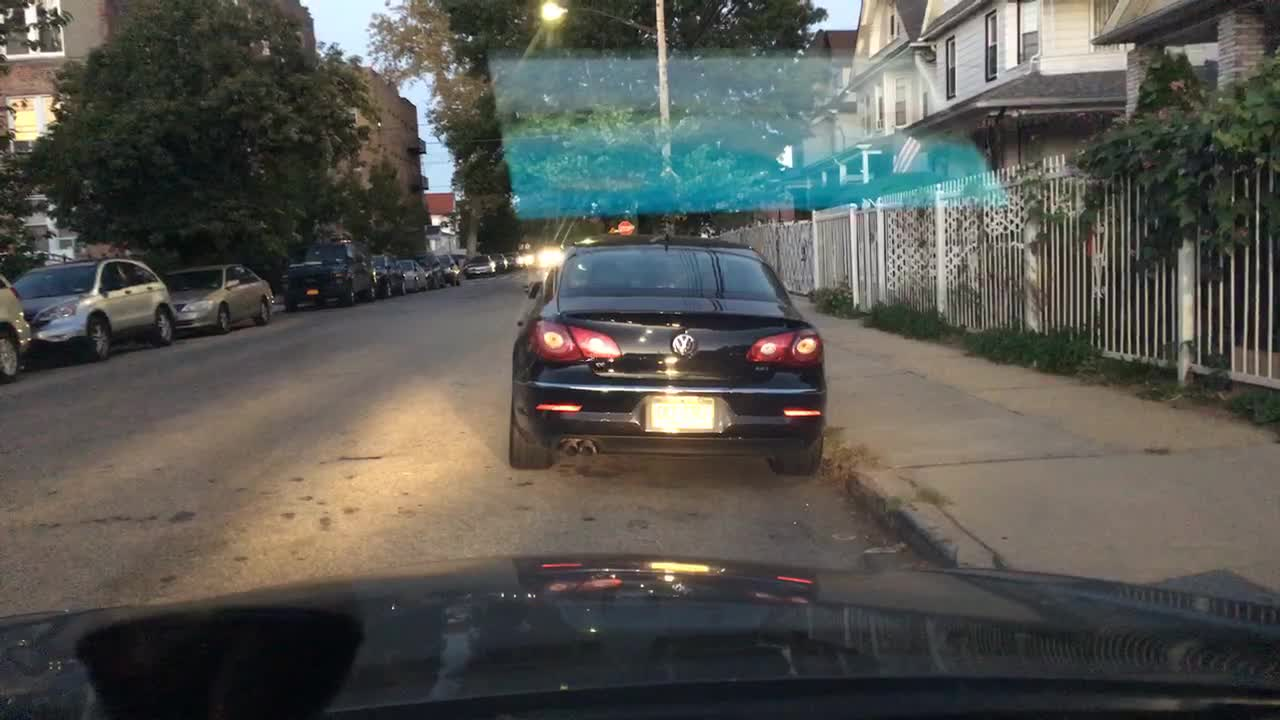car: (503, 222, 826, 476), (10, 258, 177, 360), (162, 262, 274, 334), (280, 239, 380, 310), (0, 271, 32, 380), (370, 254, 409, 296), (418, 253, 446, 291), (400, 260, 430, 293), (463, 254, 497, 278), (439, 254, 461, 286), (491, 253, 509, 272), (543, 250, 561, 264), (517, 253, 536, 266), (505, 255, 516, 271)
